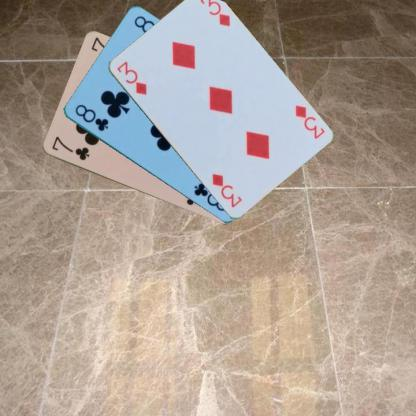3d: (114, 58, 148, 96), (292, 102, 326, 140)
7c: (48, 133, 90, 162)
8c: (72, 102, 110, 133)
